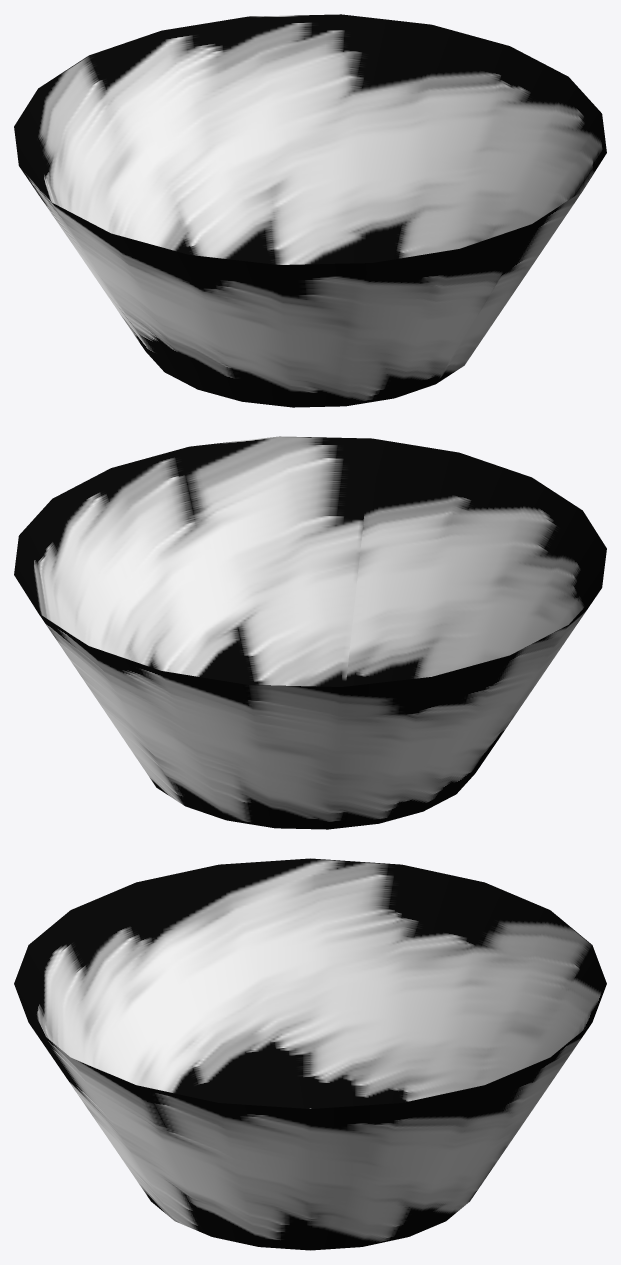
Rendered from syougekiha.fbx.
3 views of the same model, one above another, from view 1: azimuth 30°, elevation 25°; view 2: azimuth 150°, elevation 25°; view 3: azimuth 270°, elevation 25° (orthographic).
Visible parts, largest first — view 1: pCylinder1; view 2: pCylinder1; view 3: pCylinder1.
Part boxes in pixels (box(x1,y1,x2,y2)): pCylinder1: box(14, 14, 606, 407); pCylinder1: box(14, 436, 606, 829); pCylinder1: box(14, 858, 606, 1250).
Bounding box in the file's own units: 2.74 × 1 × 2.74.
1 material, 1 textured.
